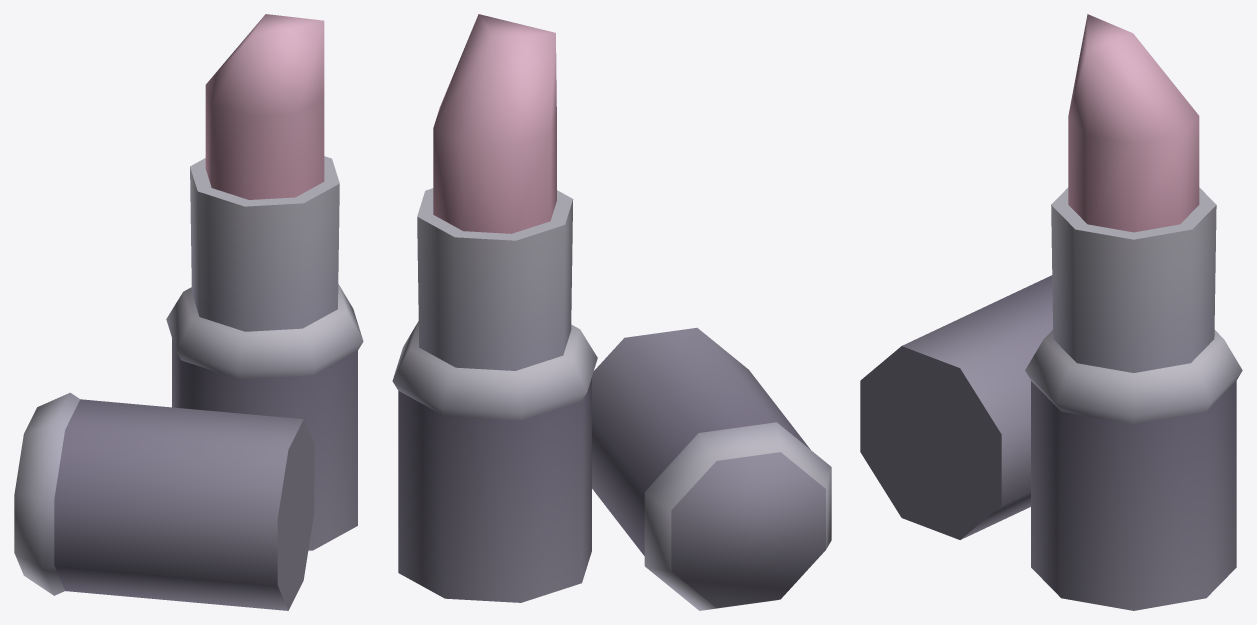
The model's file is makeup-lipstick-open.glb.
The picture shows the model from 3 angles, left to right: view 1: azimuth 30°, elevation 25°; view 2: azimuth 150°, elevation 25°; view 3: azimuth 270°, elevation 25°; orthographic projection. The views are drawn at different scales.
Parts seen in each view (by area): view 1: makeup-lipstick-open; view 2: makeup-lipstick-open; view 3: makeup-lipstick-open.
Part boxes in pixels (x1,y1,x2,y2): makeup-lipstick-open: (14,14,363,610); makeup-lipstick-open: (392,14,831,610); makeup-lipstick-open: (860,14,1242,610).
Size of the model in its own units: 0.1233 by 0.1585 by 0.1028.
